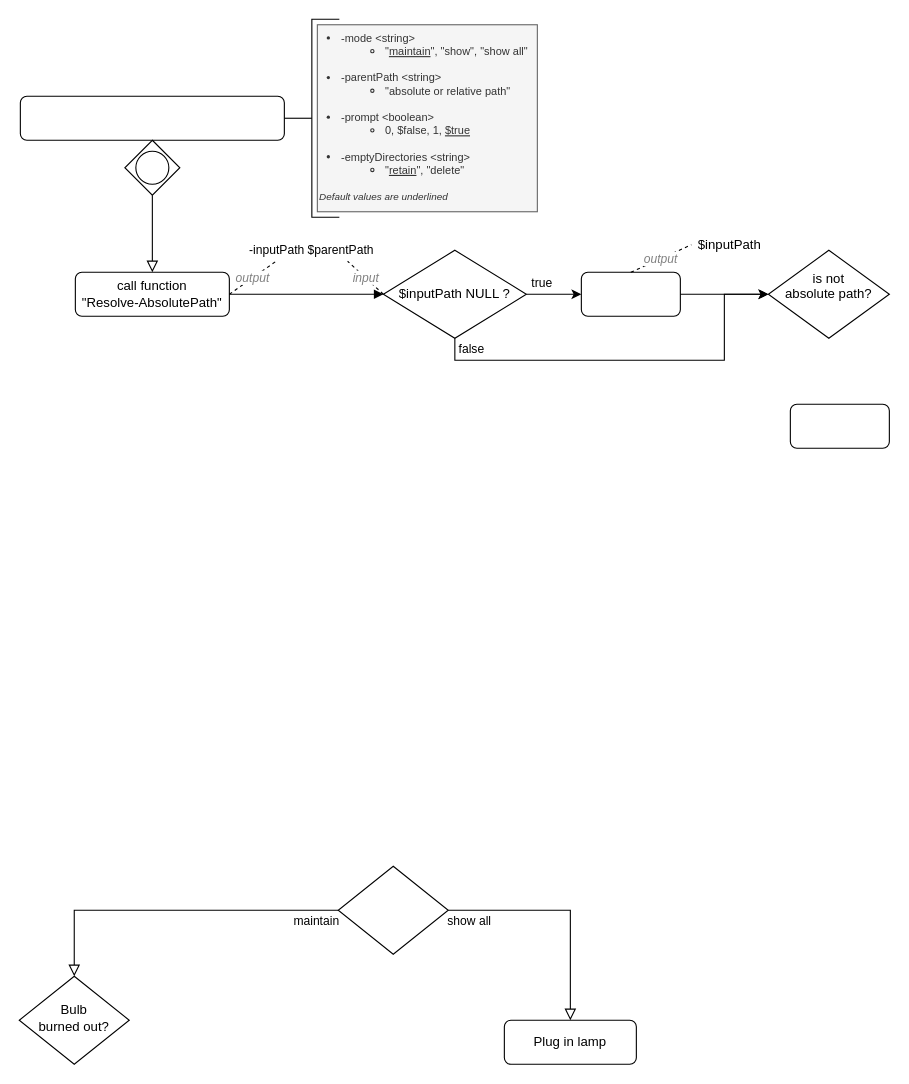
The diagram is 909 pixels wide and 1084 high, and some of its shapes have lost their labels. The centre of each missing label's shape, as x and y in pixels:
./script.maintain.userhome_directories: pixel 151 117
Get-Location: pixel 630 293
mode: pixel 392 909
